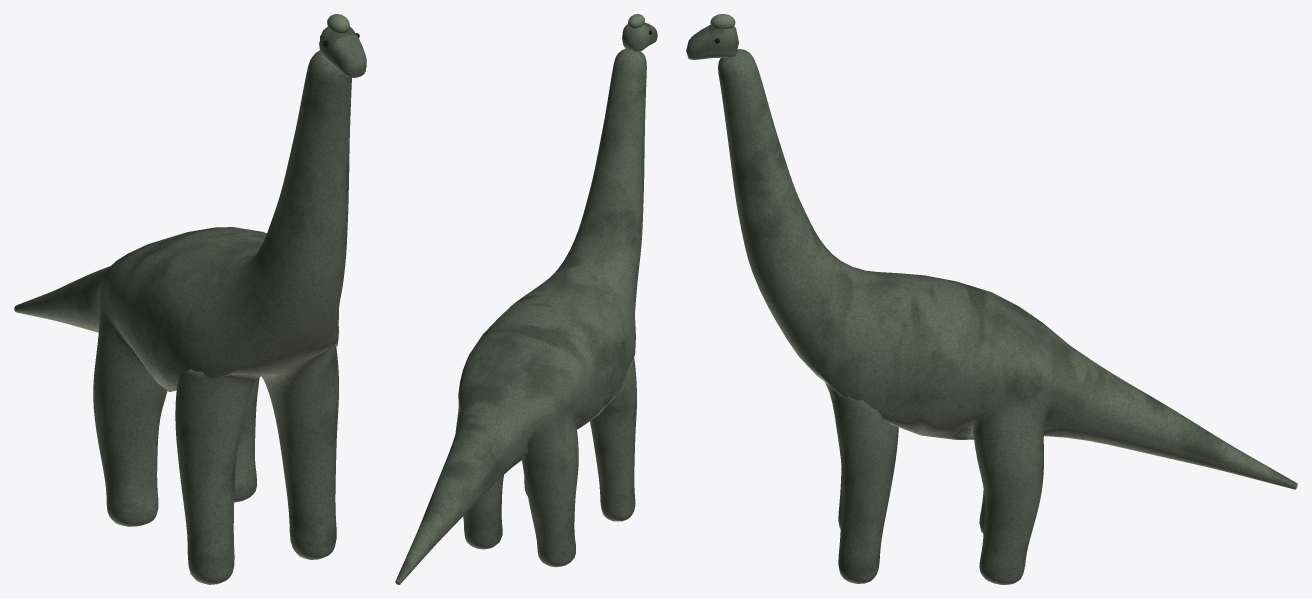
Rendered from brachiosaurus.glb.
The picture shows the model from 3 angles, left to right: view 1: azimuth 30°, elevation 25°; view 2: azimuth 150°, elevation 25°; view 3: azimuth 270°, elevation 25°; orthographic projection. The views are drawn at different scales.
Parts seen in each view (by area): view 1: brachiosaurus; view 2: brachiosaurus; view 3: brachiosaurus.
Boxes of the visible parts, left/top/right/bottom form: brachiosaurus: left=14, top=14, right=366, bottom=584; brachiosaurus: left=395, top=14, right=657, bottom=584; brachiosaurus: left=686, top=14, right=1297, bottom=584.
Size of the model in its own units: 4.31 by 16.09 by 16.36.
5 materials, 2 textured.
